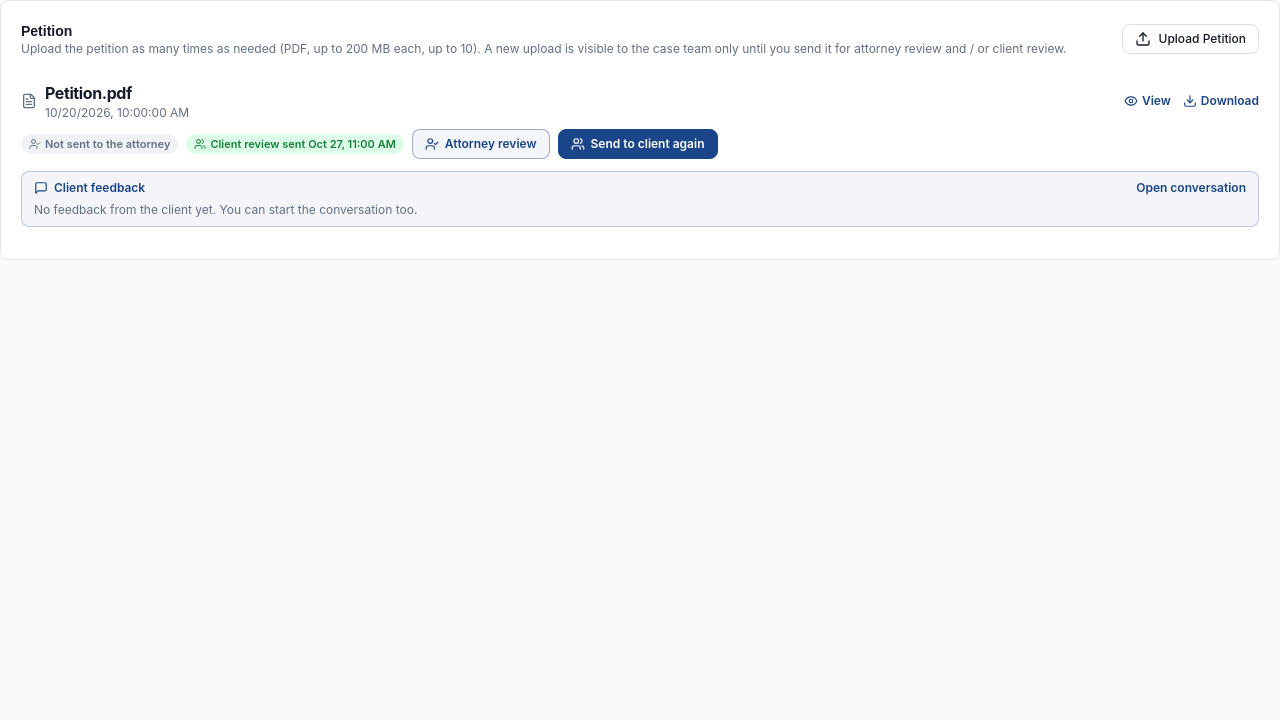
Test: PetitionUploadPanel › the case manager replies in the conversation (Enter sends); the reply goes out once and shows at once
This screenshot has width=1280, height=720.
Click the button with aria-label "Open the feedback conversation for Petition.pdf".
click(100, 188)  # box [21,171,1259,227]
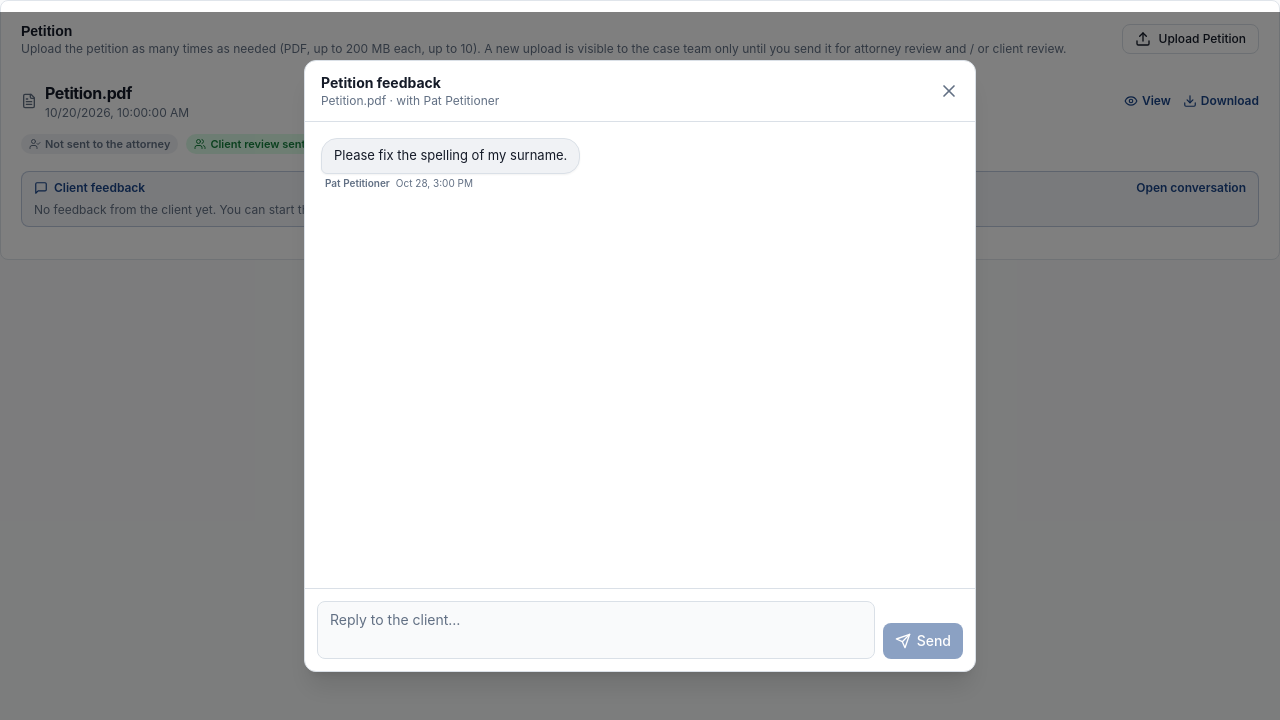
Type "I corrected it, please check." into the text box with placeholder "Reply to the client…".
click(596, 630); type("I corrected it, please check.")  # box [317,601,875,659]
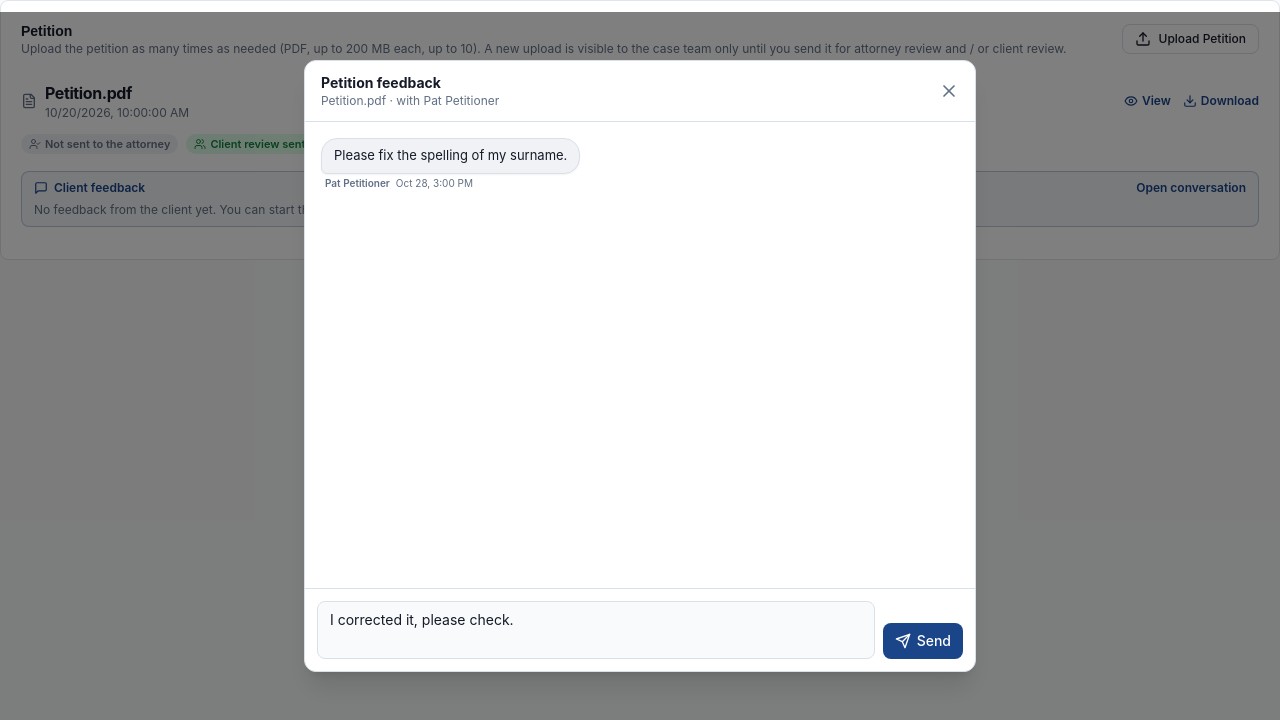
Press Enter in the text box with placeholder "Reply to the client…", box [317,601,875,659]
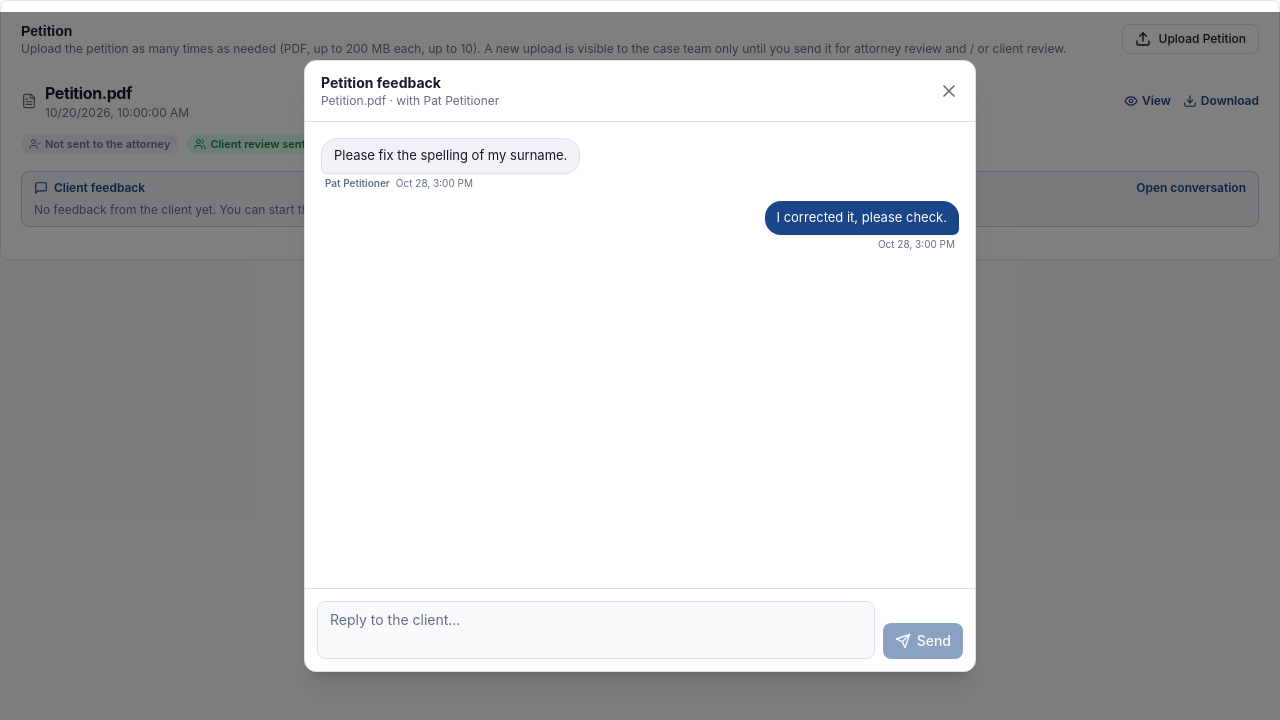
Result: the text "I corrected it, please check." is shown at [764,201,959,235]
Result: the text "I corrected it, please check." is shown once at [764,201,959,235]
